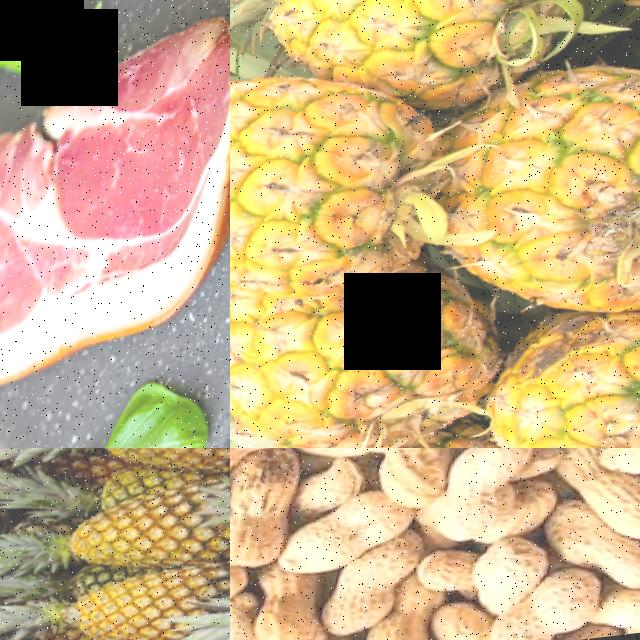peanuts: (436, 448, 542, 559), (230, 457, 316, 583), (491, 582, 604, 640), (329, 448, 443, 472)
pineapple: (230, 32, 473, 344), (423, 40, 640, 358), (230, 261, 518, 448), (230, 0, 560, 132), (473, 298, 640, 448), (30, 490, 198, 594), (50, 561, 185, 640), (67, 448, 230, 500)
pork belly: (17, 12, 230, 376), (0, 124, 85, 431)
